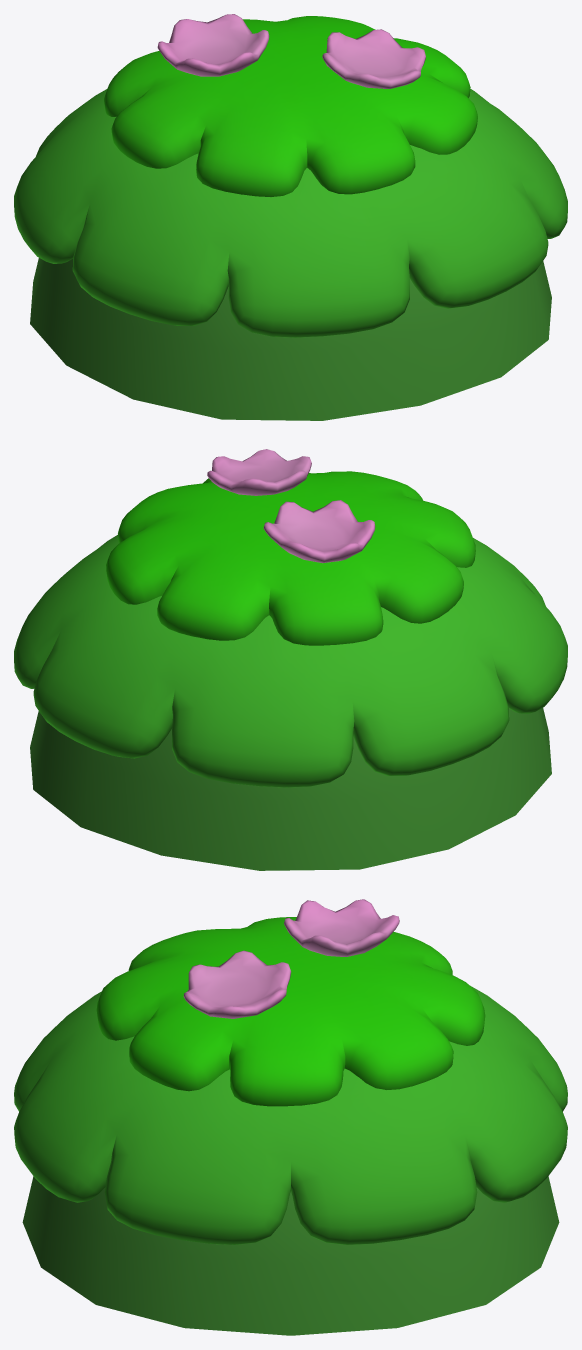
The model's file is Bush2.fbx.
3 renders of one model, top to bottom at view 1: azimuth 30°, elevation 25°; view 2: azimuth 150°, elevation 25°; view 3: azimuth 270°, elevation 25°, orthographic. The views are drawn at different scales.
Visible parts, largest first — view 1: Bush2; view 2: Bush2; view 3: Bush2.
Boxes of the visible parts, x1,y1,x2,y2 form: Bush2: (14,14,567,420); Bush2: (14,449,567,870); Bush2: (14,899,567,1335).
Bounding box in the file's own units: 189 × 106 × 189.
